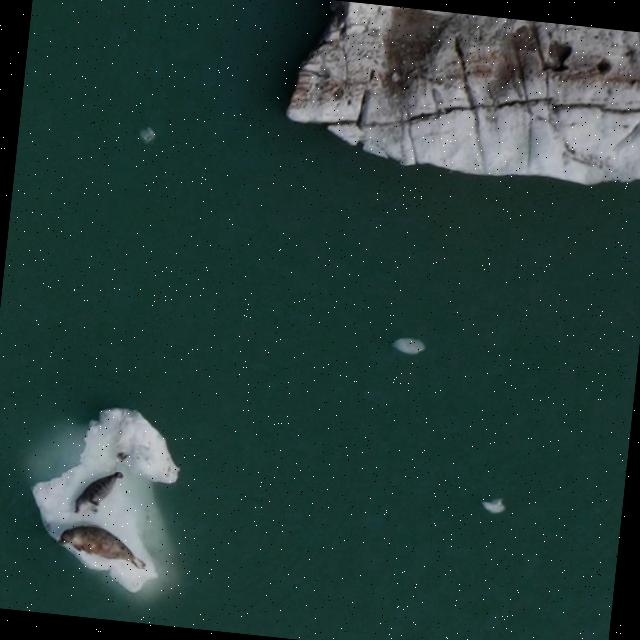seal: (57, 513, 157, 583), (70, 462, 124, 522)
